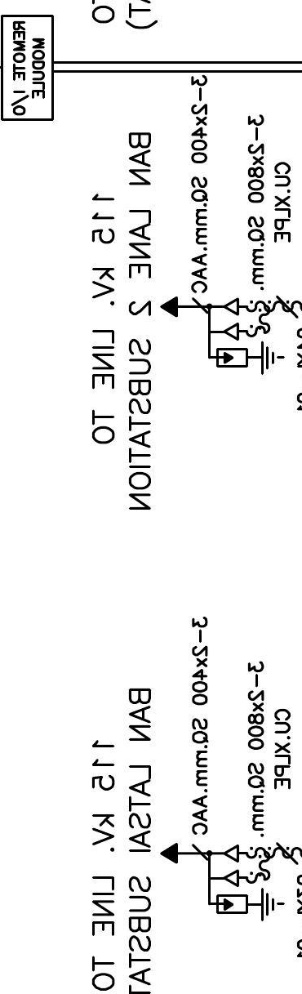115_la: (216, 887, 286, 922), (216, 341, 286, 375)
remote_io_module: (1, 14, 54, 121)
terminator_double: (207, 297, 240, 342), (207, 843, 240, 888)
